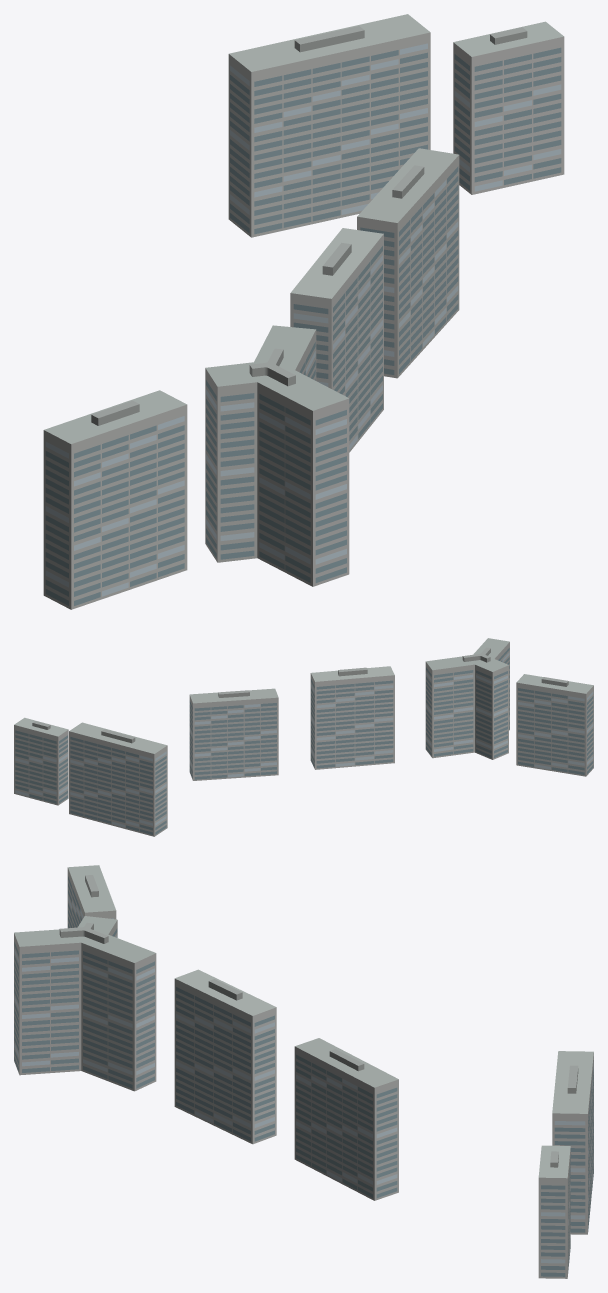
The model's file is apt-a15603204.glb.
The picture shows the model from 3 angles, top to bottom: view 1: azimuth 30°, elevation 25°; view 2: azimuth 150°, elevation 25°; view 3: azimuth 270°, elevation 25°; orthographic projection. The views are drawn at different scales.
Parts seen in each view (by area): view 1: apt-a15603204; view 2: apt-a15603204; view 3: apt-a15603204.
Part boxes in pixels (left/top/right/bottom): apt-a15603204: left=43, top=14, right=564, bottom=609; apt-a15603204: left=14, top=638, right=593, bottom=836; apt-a15603204: left=14, top=865, right=593, bottom=1278.
Size of the model in its own units: 238 by 51 by 199.
